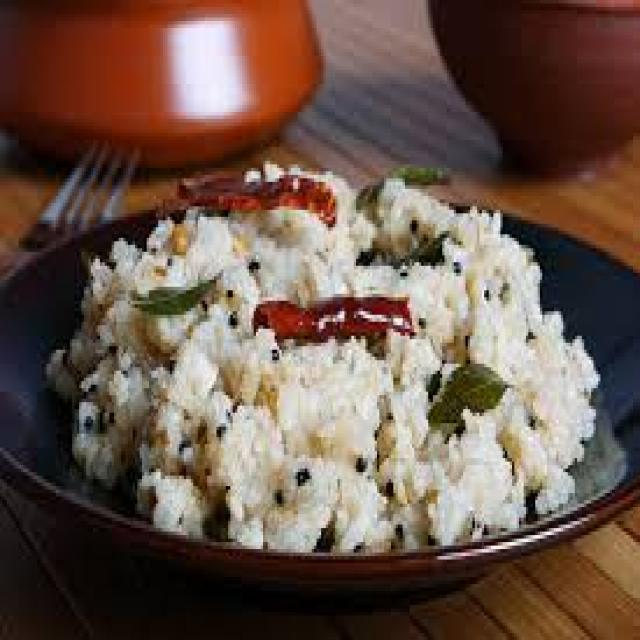UPMA: (47, 171, 603, 546)
